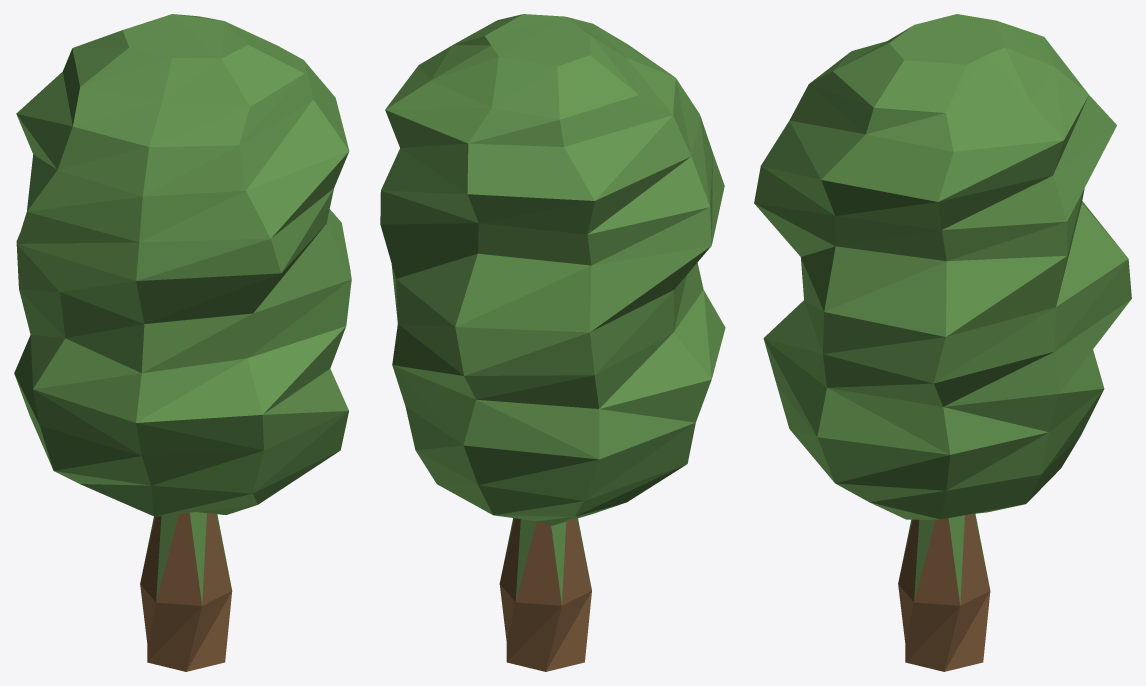
Rendered from tree3d-109.glb.
The picture shows the model from 3 angles, left to right: view 1: azimuth 30°, elevation 25°; view 2: azimuth 150°, elevation 25°; view 3: azimuth 270°, elevation 25°; orthographic projection.
Visible parts, largest first — view 1: tree3d-109; view 2: tree3d-109; view 3: tree3d-109.
Boxes of the visible parts, <box> form: tree3d-109: <box>14,14,351,671</box>; tree3d-109: <box>380,14,725,671</box>; tree3d-109: <box>754,14,1131,671</box>.
Size of the model in its own units: 0.5576 by 1 by 0.5576.
